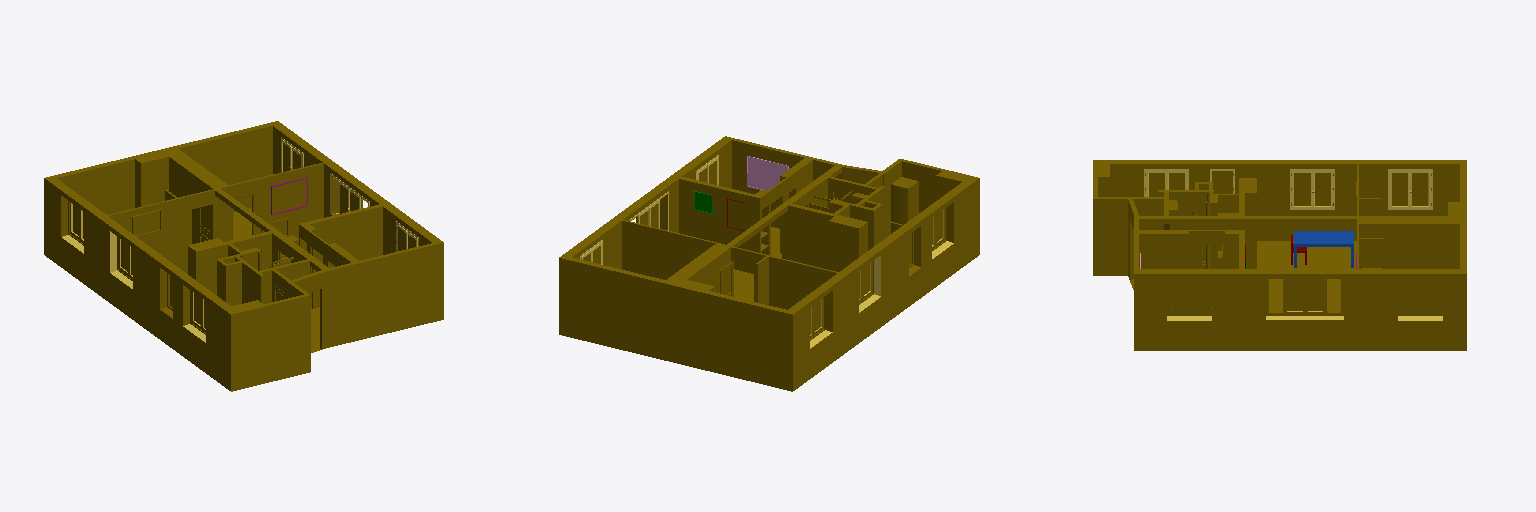
3 views of the same model, side by side, from view 1: azimuth 30°, elevation 25°; view 2: azimuth 150°, elevation 25°; view 3: azimuth 270°, elevation 25° (orthographic).
Parts seen in each view (by area): view 1: Layer00_001, Layer000_001; view 2: Layer00_001, Layer000_001, NY_1_001; view 3: Layer00_001, Layer000_001, table_001.
Part boxes in pixels (bbox=[...]): Layer00_001: bbox=[44, 121, 443, 391]; Layer000_001: bbox=[62, 137, 418, 342]; Layer00_001: bbox=[559, 136, 979, 391]; Layer000_001: bbox=[580, 155, 953, 348]; NY_1_001: bbox=[747, 156, 788, 190]; Layer00_001: bbox=[1093, 160, 1466, 350]; Layer000_001: bbox=[1144, 169, 1442, 320]; table_001: bbox=[1294, 231, 1353, 267].
Size of the model in its own units: 7930 by 2465 by 10840.